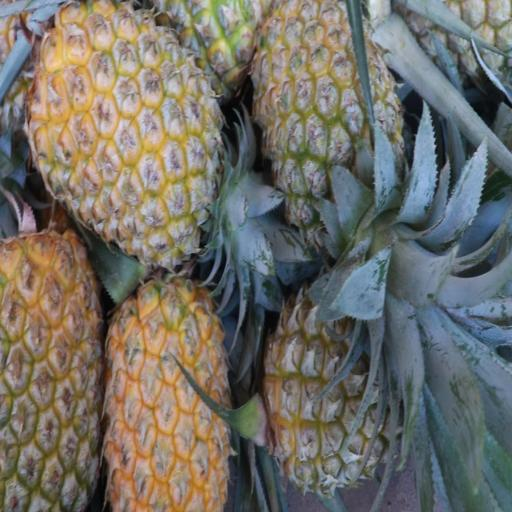------------------------------: (255, 0, 399, 238), (266, 271, 402, 482)
Pineapple - v8 v1: (36, 0, 218, 247), (107, 275, 230, 508), (0, 233, 103, 508)
